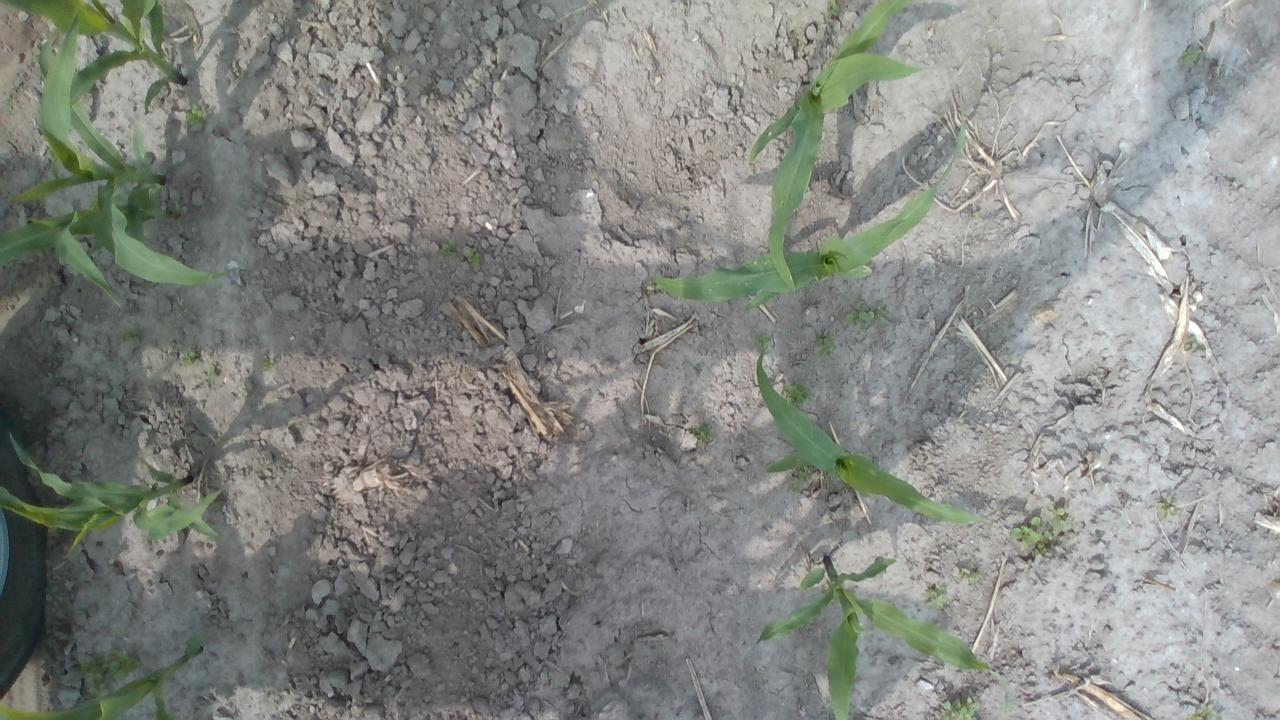Maize: (0, 8, 222, 300), (650, 118, 966, 310), (745, 0, 927, 286), (748, 552, 1016, 720), (754, 354, 984, 526), (0, 432, 222, 559), (0, 0, 188, 109), (0, 644, 207, 720)
Weeds: (75, 648, 143, 700), (1012, 514, 1051, 556), (842, 300, 892, 332), (781, 380, 816, 409), (940, 695, 980, 720), (924, 581, 950, 611), (1044, 503, 1069, 530), (813, 330, 837, 358), (138, 183, 160, 212), (689, 424, 718, 446), (1186, 704, 1222, 720), (1177, 44, 1203, 66), (955, 562, 981, 582), (461, 244, 482, 268), (185, 104, 204, 128), (122, 324, 144, 344), (1158, 496, 1178, 518), (750, 330, 770, 352), (180, 346, 200, 366), (256, 354, 276, 372), (206, 360, 223, 381), (438, 239, 456, 258), (795, 465, 815, 482), (825, 0, 840, 16), (1184, 335, 1198, 349), (786, 479, 800, 490), (651, 283, 662, 292), (824, 702, 832, 711)
